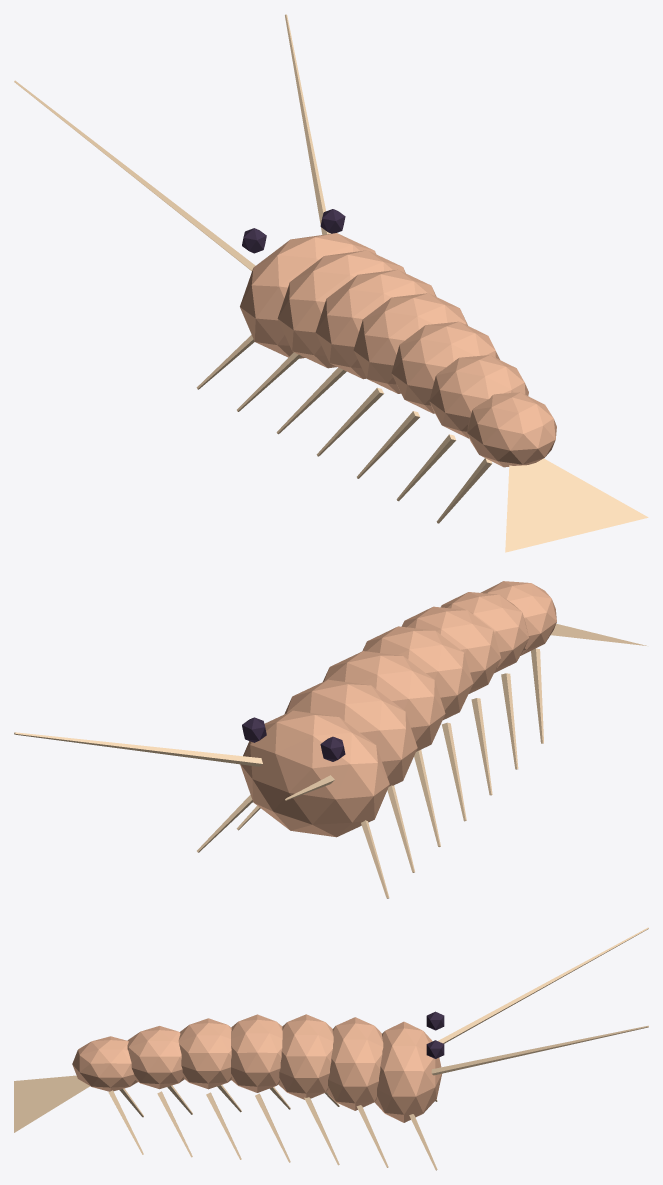
Rendered from Shrimp.fbx.
3 renders of one model, top to bottom at view 1: azimuth 30°, elevation 25°; view 2: azimuth 150°, elevation 25°; view 3: azimuth 270°, elevation 25°, orthographic. The views are drawn at different scales.
Parts seen in each view (by area): view 1: Segment0, Segment1, Segment6, Segment2, Segment3, Segment4, Segment5, TailFan-1, TailFan0, TailFan1, Antenna1, Antenna-1; view 2: Segment0, Segment1, Segment2, Segment3, Segment4, Segment5, Segment6, Antenna-1, Leg1_3, Leg1_4, Leg1_5, Leg1_6 (+6 smaller); view 3: Segment0, Segment1, Segment2, Segment3, Segment4, Segment5, Segment6, TailFan0, Antenna-1, Antenna1, TailFan-1, TailFan1.
Part boxes in pixels (<box>): Segment0: <box>240,233,375,358</box>; Segment1: <box>277,250,405,368</box>; Segment6: <box>467,392,556,467</box>; Segment2: <box>315,269,436,379</box>; Segment3: <box>353,293,467,393</box>; Segment4: <box>391,321,499,413</box>; Segment5: <box>429,355,528,438</box>; TailFan-1: <box>529,458,648,534</box>; TailFan0: <box>518,463,611,543</box>; TailFan1: <box>505,465,542,552</box>; Antenna1: <box>14,80,255,271</box>; Antenna-1: <box>285,14,330,234</box>; Segment0: <box>240,710,389,837</box>; Segment1: <box>284,679,417,786</box>; Segment2: <box>323,651,445,751</box>; Segment3: <box>362,626,473,719</box>; Segment4: <box>401,606,501,694</box>; Segment5: <box>441,592,528,673</box>; Segment6: <box>480,581,556,655</box>; Antenna-1: <box>14,732,262,766</box>; Leg1_3: <box>442,722,466,821</box>; Leg1_4: <box>471,698,492,795</box>; Leg1_5: <box>501,673,518,769</box>; Leg1_6: <box>531,648,543,743</box>; Segment0: <box>374,1021,441,1122</box>; Segment1: <box>326,1017,383,1110</box>; Segment2: <box>278,1014,333,1099</box>; Segment3: <box>231,1014,282,1092</box>; Segment4: <box>178,1018,231,1089</box>; Segment5: <box>127,1026,184,1089</box>; Segment6: <box>72,1036,137,1091</box>; TailFan0: <box>14,1080,86,1119</box>; Antenna-1: <box>431,1025,648,1075</box>; Antenna1: <box>438,927,648,1043</box>; TailFan-1: <box>14,1084,89,1132</box>; TailFan1: <box>14,1075,78,1094</box>.
Bounding box in the file's own units: 0.2015 × 0.1514 × 0.5453.
